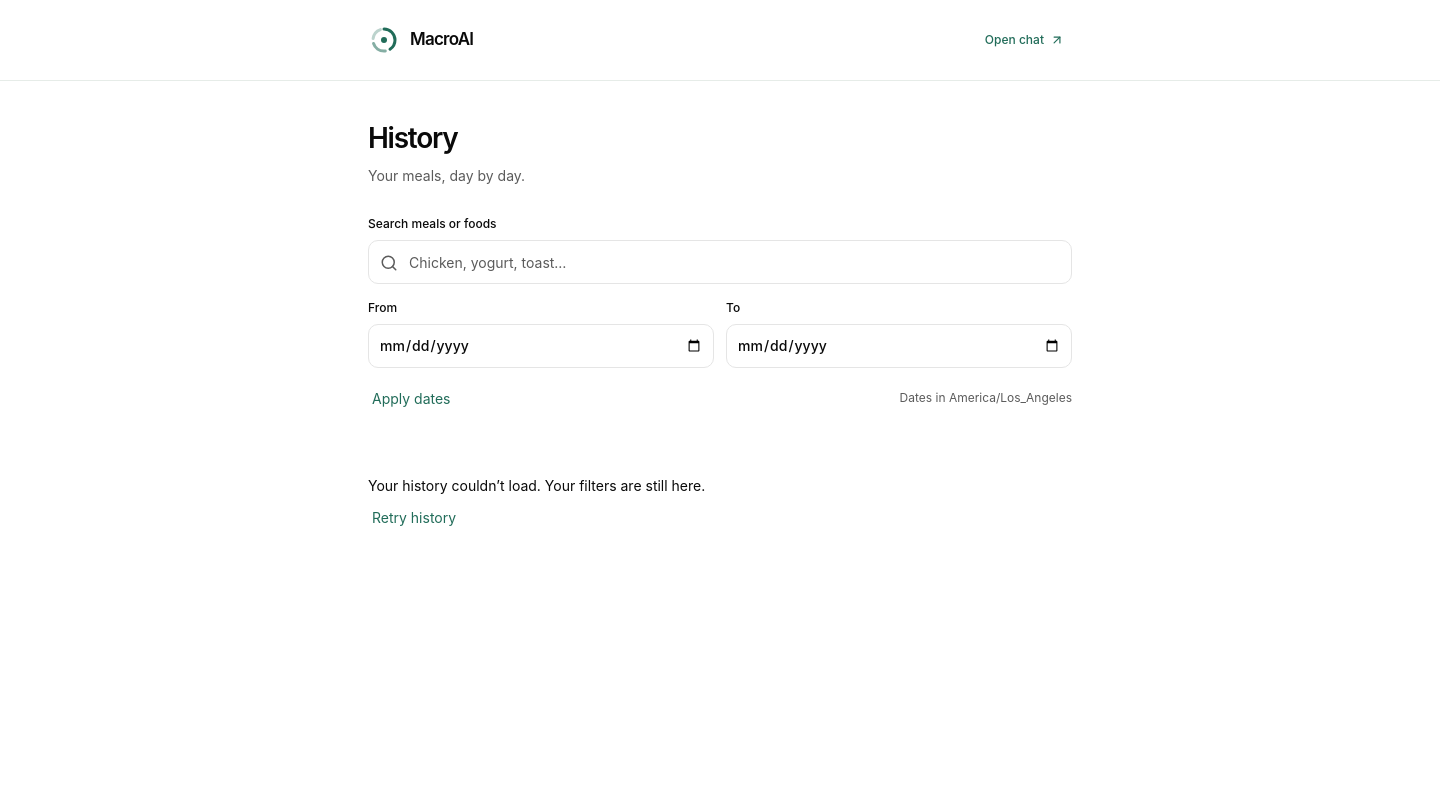
Scenario: retries an initial request failure without losing the filters
The width and height of the screenshot is (1440, 810).
Click the button "Retry history": (414, 518) [368,496,460,540]
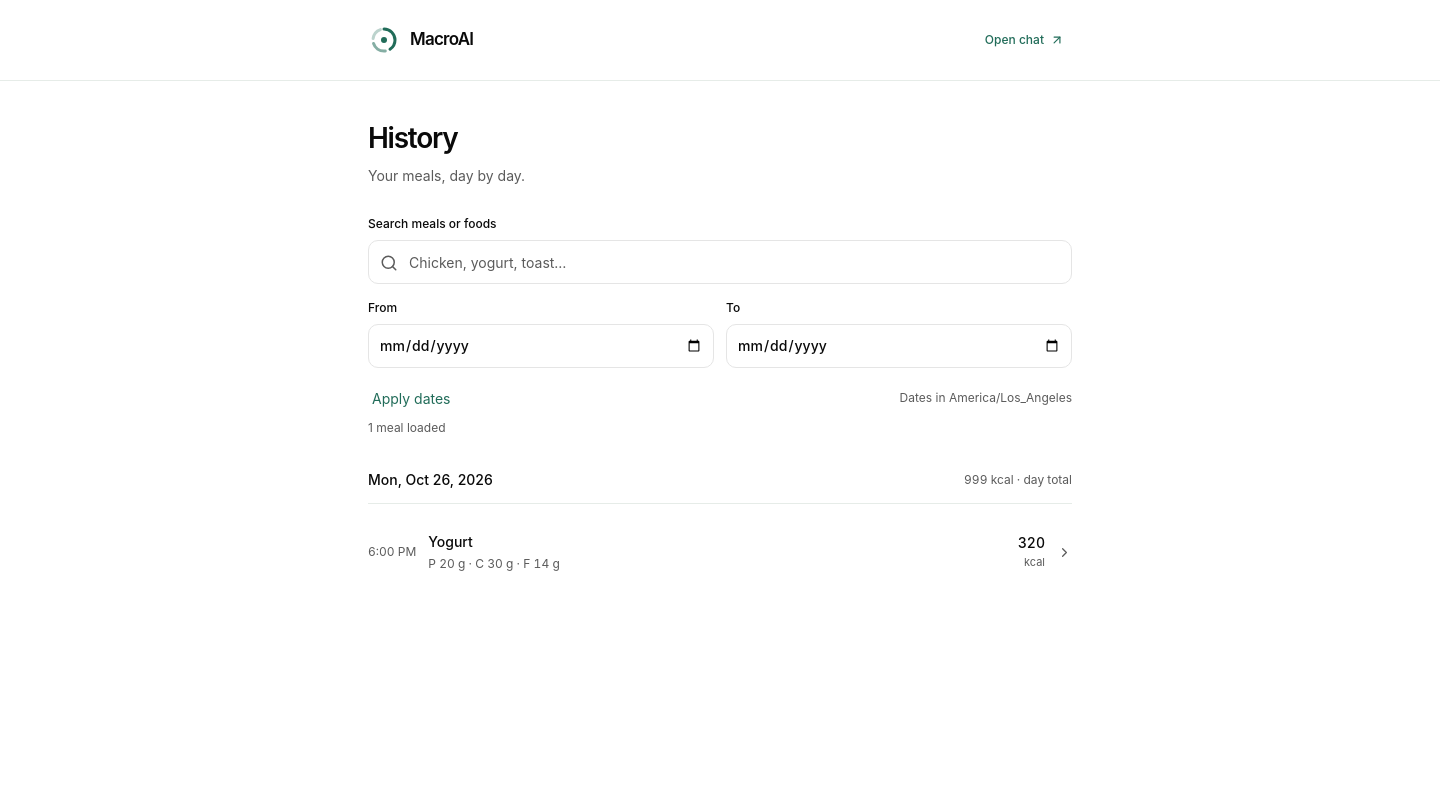
Expected: the text "Yogurt" is shown, [428,533,473,550]
